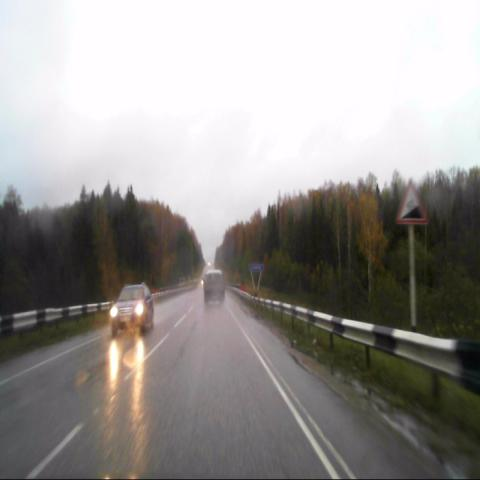1_14: (396, 176, 429, 225)
